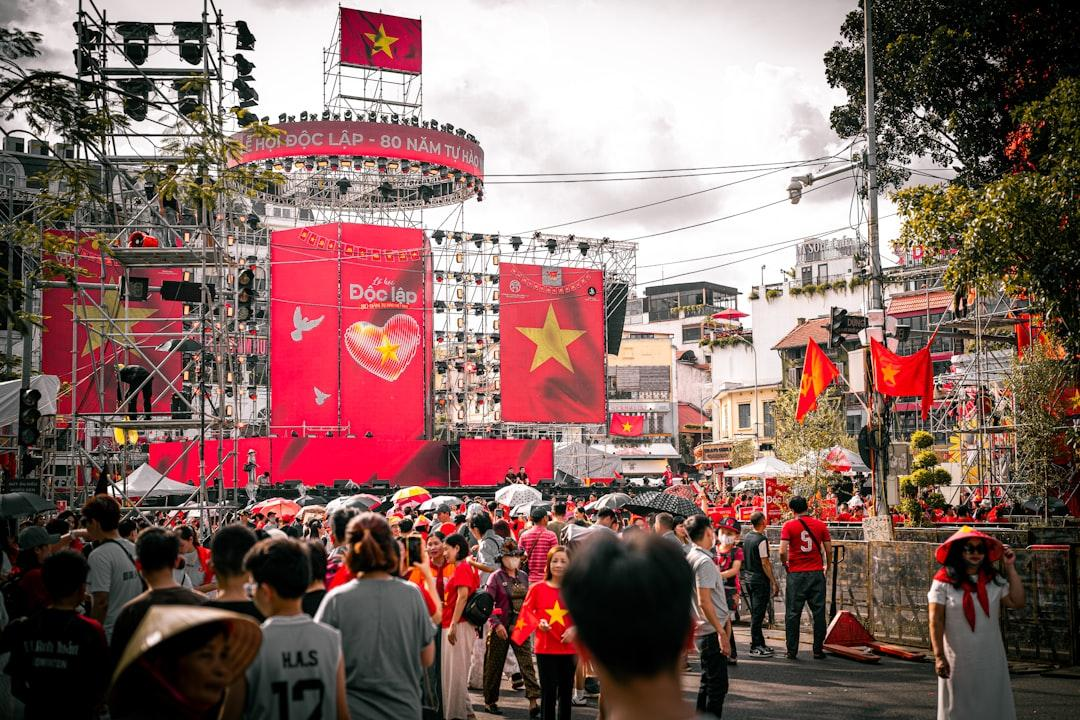Vietnam: (496, 259, 610, 427)
